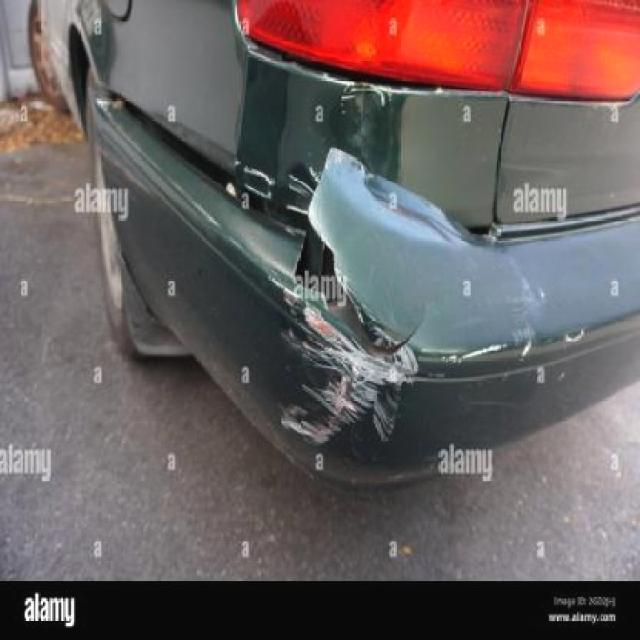minor: (188, 52, 497, 466), (237, 168, 280, 208)
moderate: (285, 346, 417, 448), (312, 72, 442, 108), (417, 345, 528, 368)
